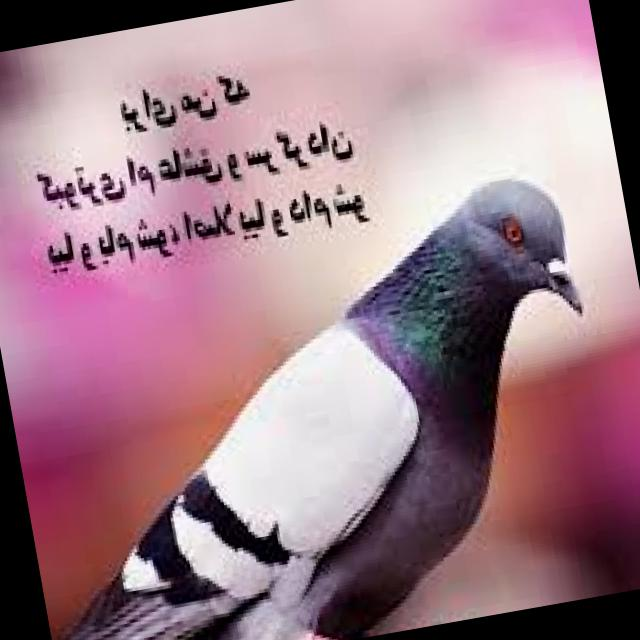bird: (0, 168, 636, 640)
